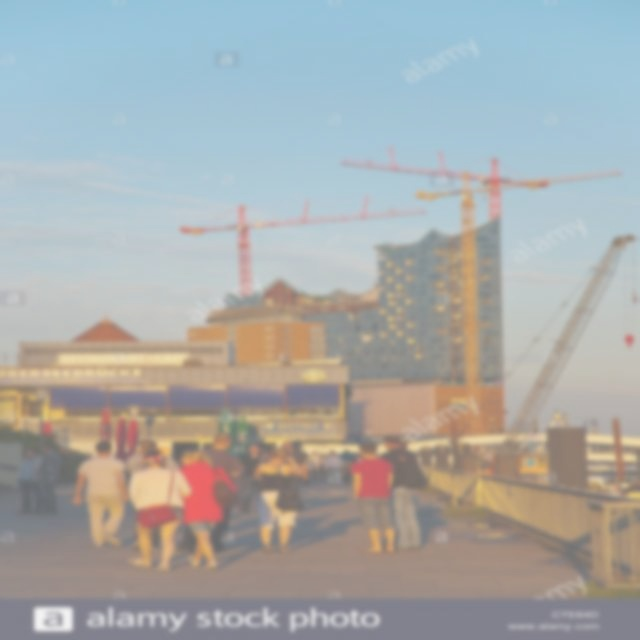pessoa: (124, 448, 194, 572), (176, 432, 244, 552), (176, 448, 238, 570), (68, 438, 132, 548), (124, 438, 180, 552), (347, 440, 403, 554), (251, 446, 306, 554), (380, 434, 430, 552), (237, 444, 272, 514), (32, 442, 61, 516), (14, 448, 45, 516), (280, 440, 311, 490), (388, 488, 421, 532), (301, 449, 326, 486), (322, 452, 346, 486), (288, 406, 340, 419), (326, 449, 366, 464), (260, 449, 276, 463), (338, 450, 355, 462), (400, 440, 410, 451)
